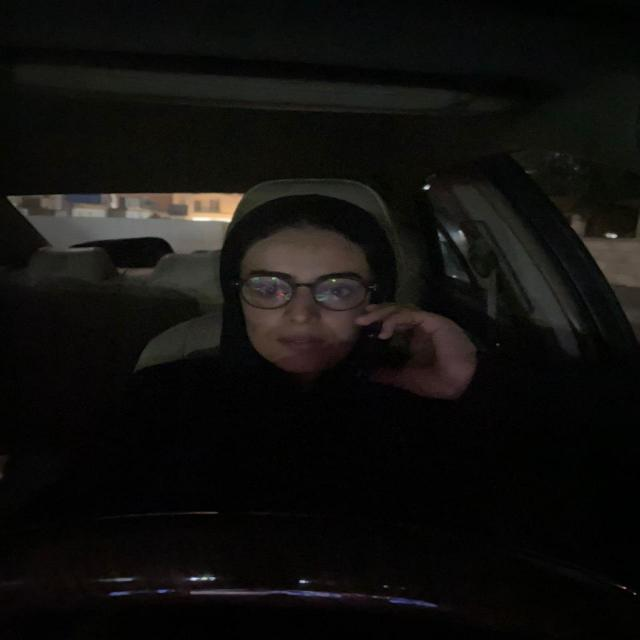person: (232, 212, 374, 370)
